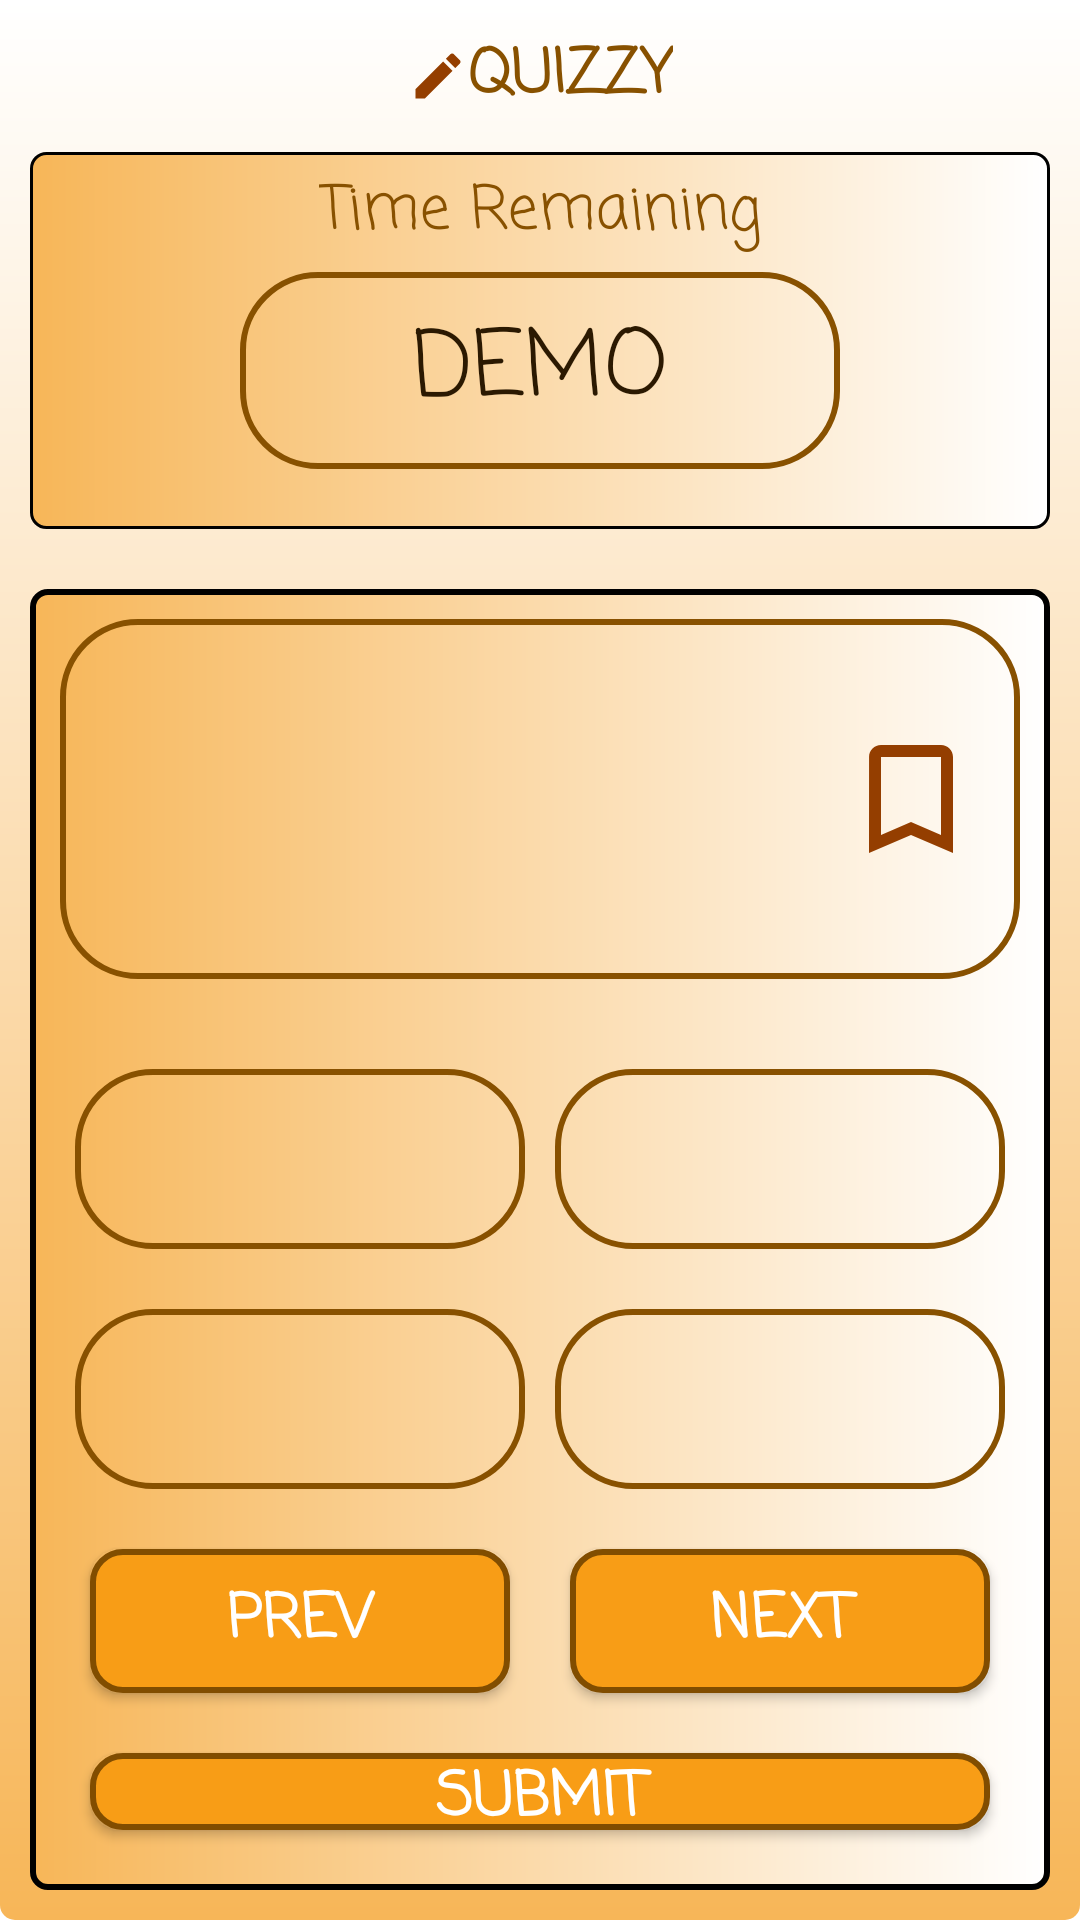

Icon click points for this 1080*1920 phone screenshot, format (x,y):
Bookmark button: (910,799)
